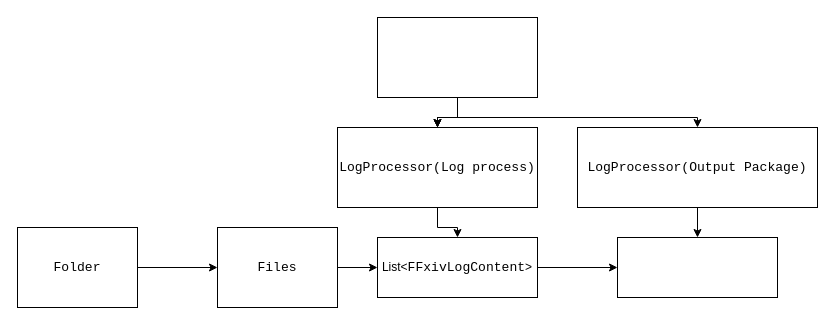
Some shapes in this 835 by 325 pixel diagram are drawn without their labels. Each missing label, with the centre of its shape:
LogProcessManager: the point at 457,57
Out File: the point at 697,267
